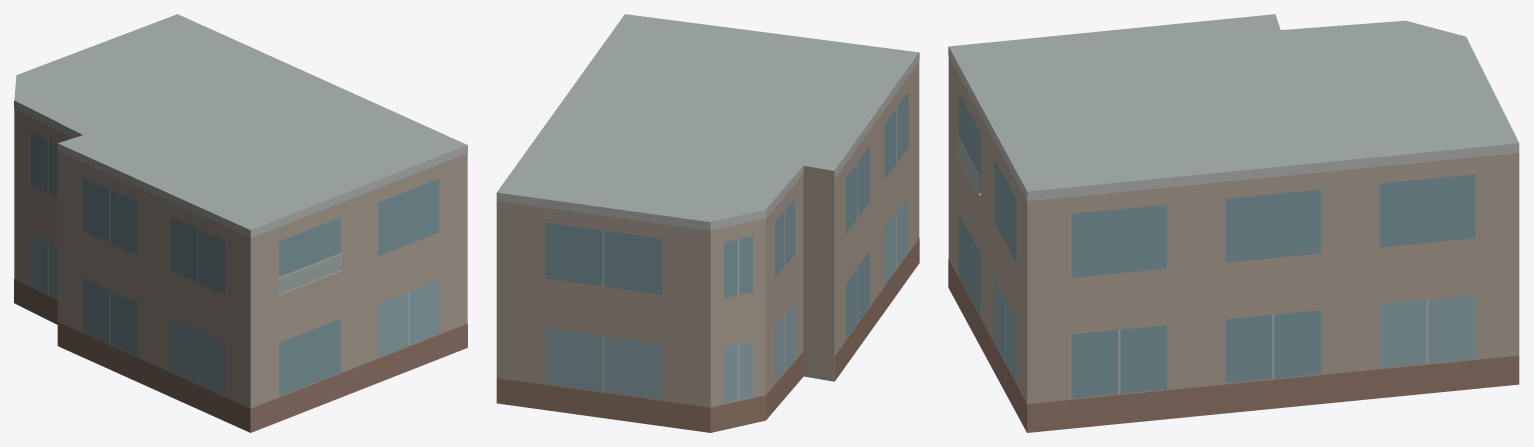
The model's file is survey-upis-32682912.glb.
The picture shows the model from 3 angles, left to right: view 1: azimuth 30°, elevation 25°; view 2: azimuth 150°, elevation 25°; view 3: azimuth 270°, elevation 25°; orthographic projection. The views are drawn at different scales.
Parts seen in each view (by area): view 1: survey-upis-32682912.tmp; view 2: survey-upis-32682912.tmp; view 3: survey-upis-32682912.tmp.
Part boxes in pixels (box(x1,y1,x2,y2)): survey-upis-32682912.tmp: box(14, 14, 467, 432); survey-upis-32682912.tmp: box(496, 14, 919, 432); survey-upis-32682912.tmp: box(948, 14, 1519, 432).
Bounding box in the file's own units: 9.64 × 6.1 × 13.09.
